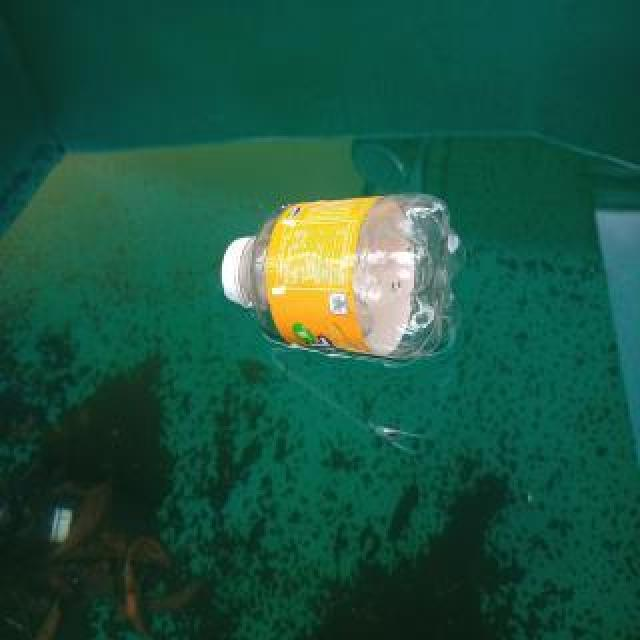bottle: (220, 192, 468, 366)
